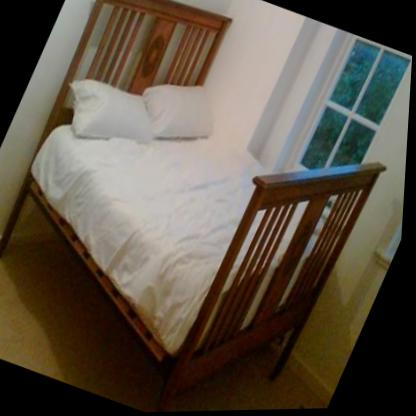Bed: (0, 0, 386, 399)
